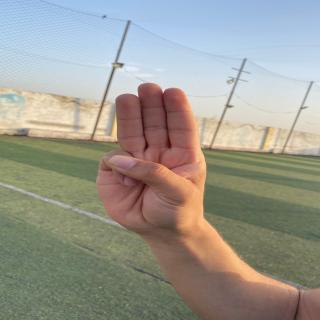THA: (80, 78, 236, 225)
